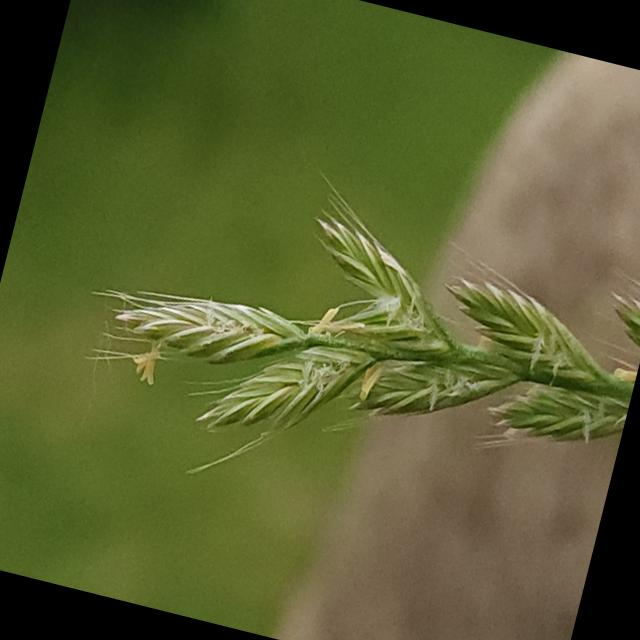Lolium: (51, 123, 640, 577)
